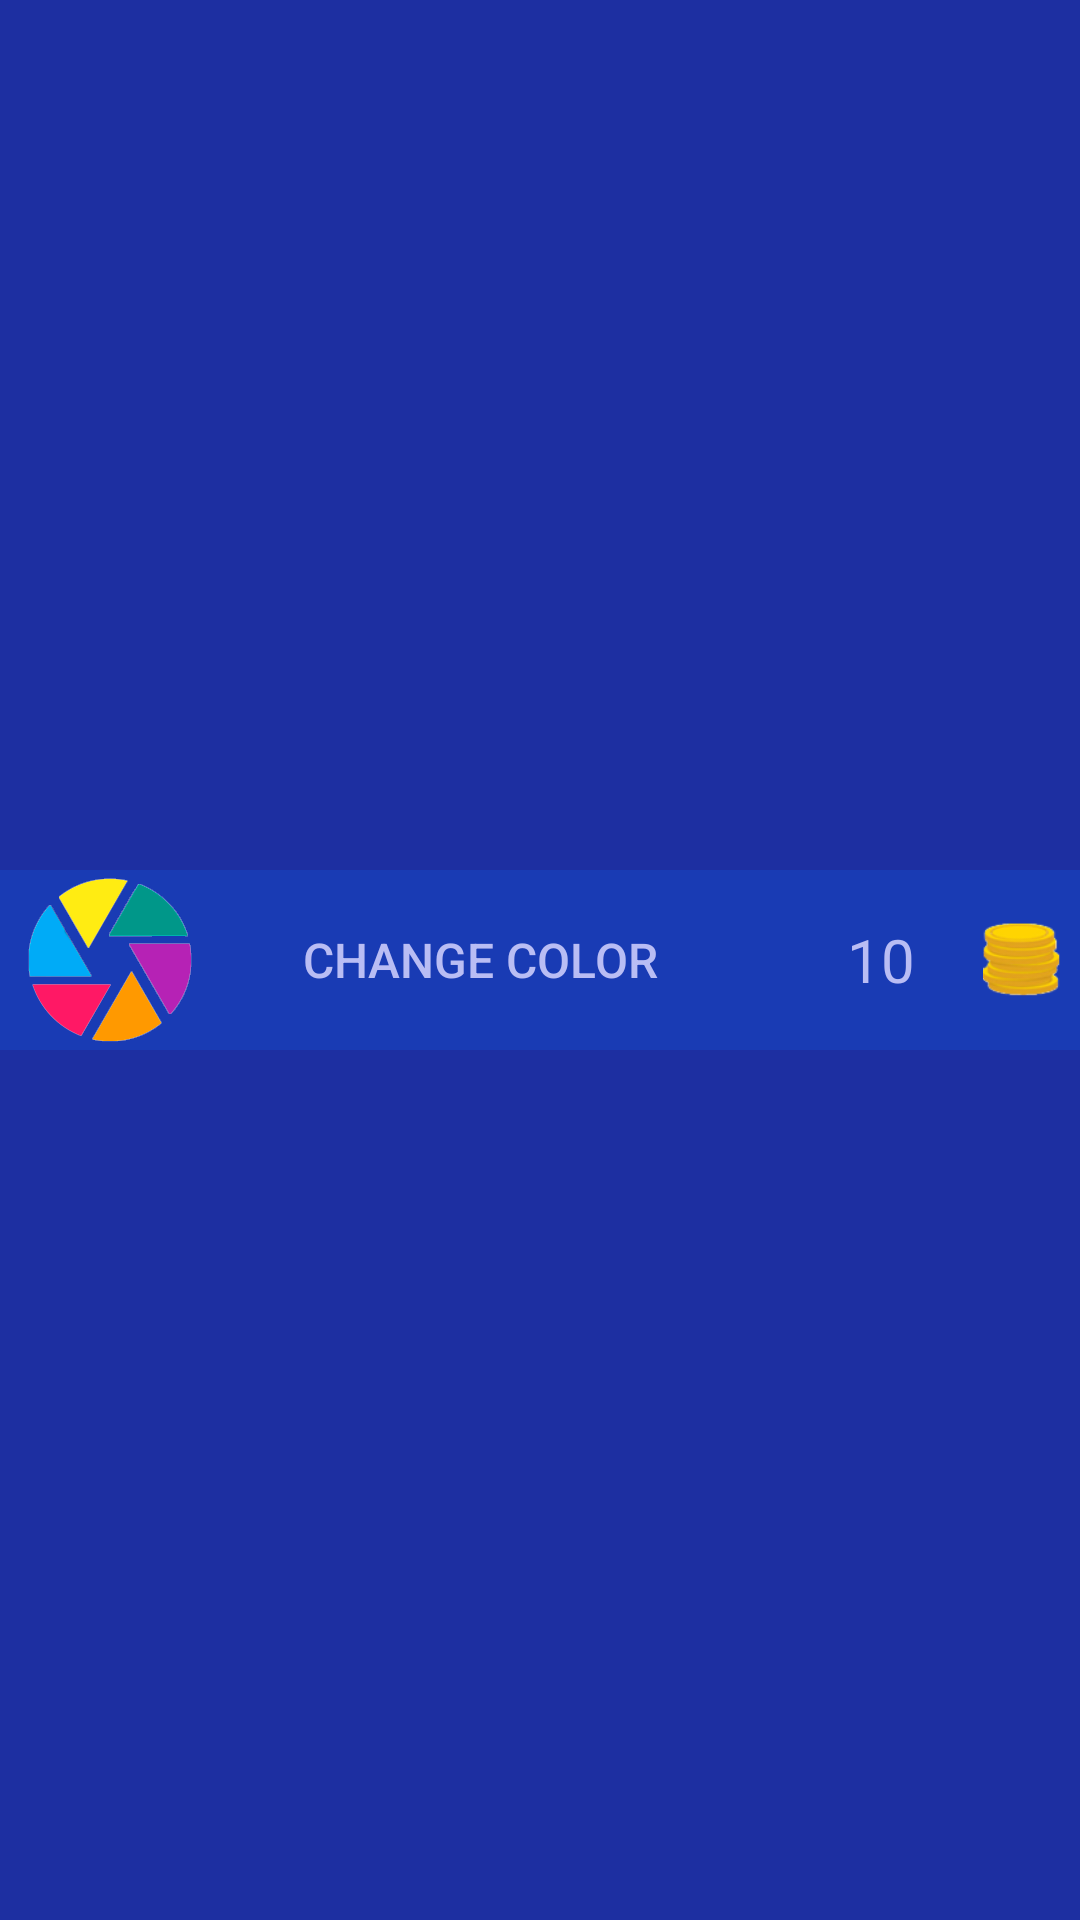

Icon bounding boxes for this 1080w x 1920h phone screenshot, format (x1, y1, x2, y2):
money: (983, 923, 1060, 996)
